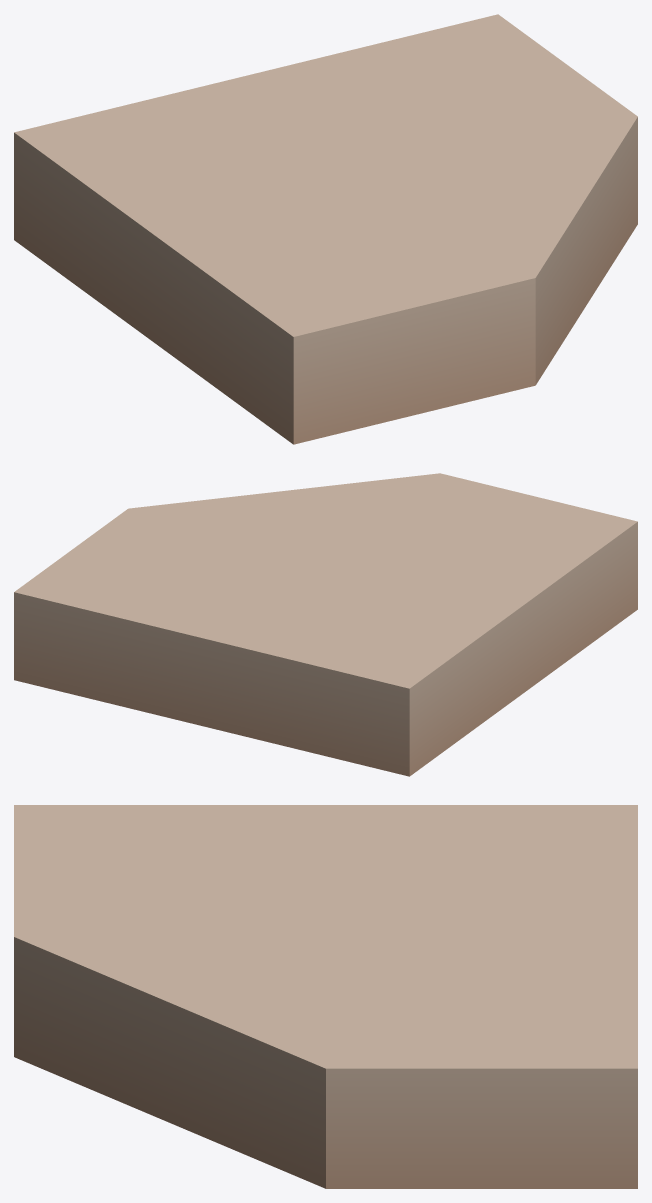
Rendered from roof-flat-corner-high.glb.
The picture shows the model from 3 angles, top to bottom: view 1: azimuth 30°, elevation 25°; view 2: azimuth 150°, elevation 25°; view 3: azimuth 270°, elevation 25°; orthographic projection. The views are drawn at different scales.
Parts seen in each view (by area): view 1: roof-flat-corner-high; view 2: roof-flat-corner-high; view 3: roof-flat-corner-high.
Part boxes in pixels (bbox=[...]): roof-flat-corner-high: bbox=[14, 14, 637, 444]; roof-flat-corner-high: bbox=[14, 473, 637, 776]; roof-flat-corner-high: bbox=[14, 805, 637, 1188].
Bounding box in the file's own units: 1 × 0.2125 × 1.
